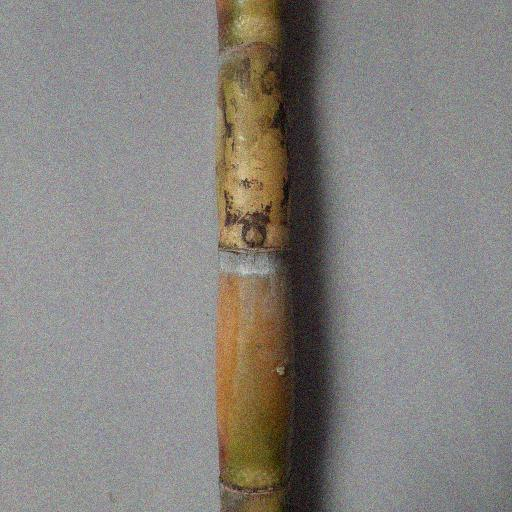Bud: (241, 222, 267, 246)
